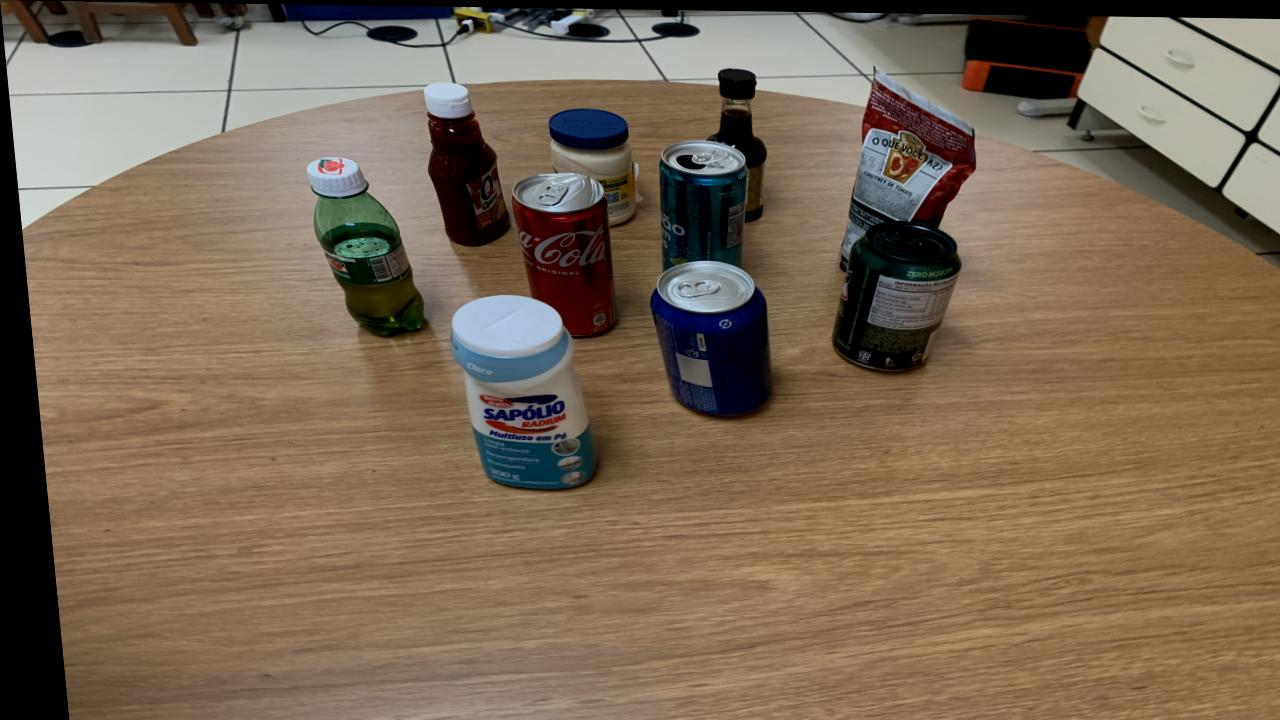Cleaner-Cleanup_Items: (443, 294, 587, 488)
Coke-Drinks: (509, 171, 611, 335)
English_Sauce-Pantry_Items: (705, 66, 764, 219)
Guarana-Drinks: (302, 155, 419, 334)
Guarana_Can-Drinks: (827, 218, 957, 368)
Ketchup-Pantry_Items: (421, 82, 507, 245)
Mayonnaise-Pantry_Items: (546, 106, 637, 224)
Tea-Drinks: (656, 139, 745, 268)
Tomato_Sauce-Pantry_Items: (834, 65, 974, 266)
Tonic-Drinks: (644, 259, 765, 413), (861, 272, 952, 327)
